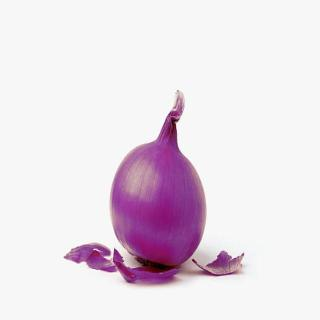Bawang Merah: (108, 88, 211, 271)
